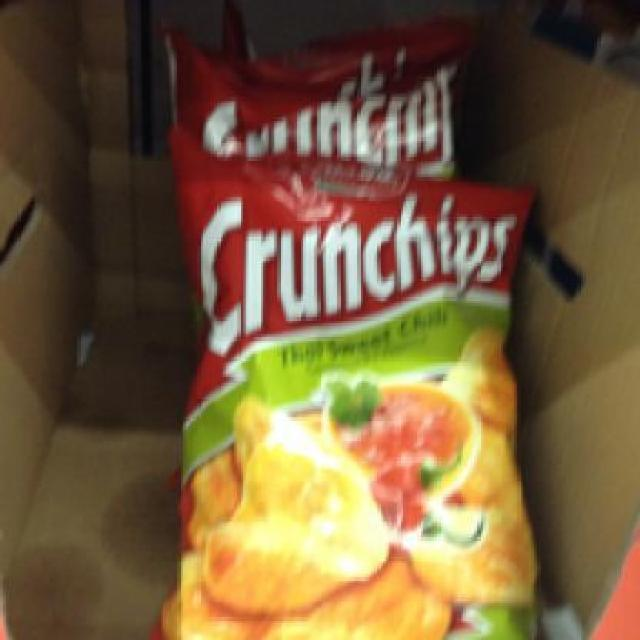Chips: (166, 134, 534, 637)
